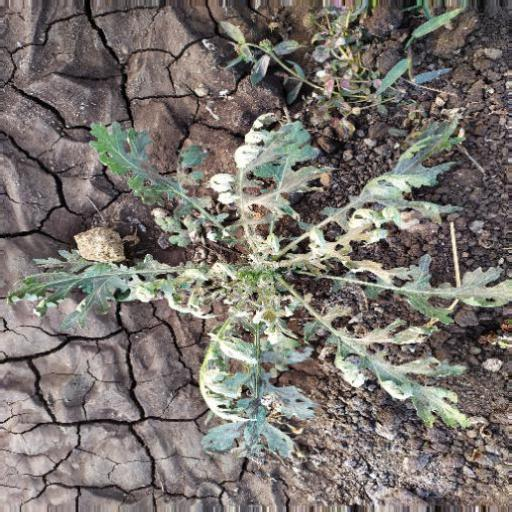weed: (9, 113, 512, 462)
